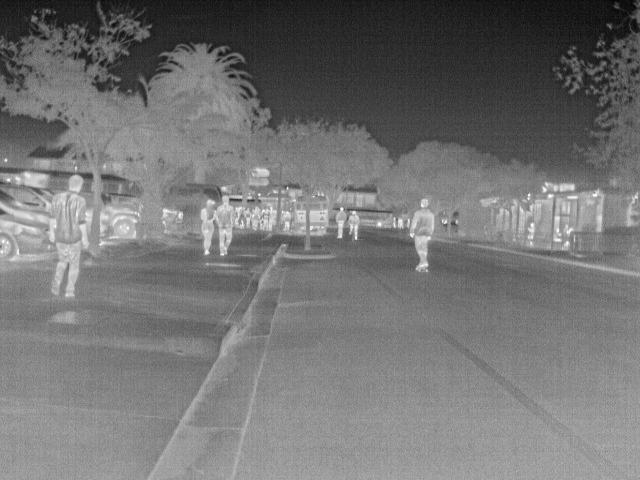car: (5, 209, 58, 263), (104, 205, 141, 241), (5, 184, 54, 211), (160, 206, 186, 232)
person: (46, 174, 88, 299), (402, 197, 435, 275), (216, 193, 236, 258), (199, 198, 218, 258), (346, 209, 365, 241), (335, 206, 350, 241), (562, 222, 575, 250), (250, 208, 263, 231), (281, 209, 293, 232), (525, 221, 538, 241), (551, 226, 564, 242), (391, 214, 399, 228), (397, 214, 403, 228)
